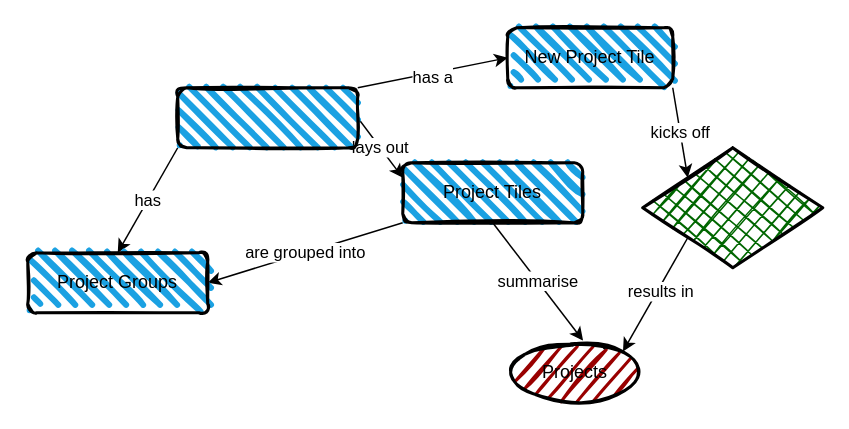
The diagram is 849 pixels wide and 429 high, and some of its shapes have lost their labels. The shapes that lost their labels are listed below. From the top down, each one's box as (x1, y1, x2, y2) in pixels, then its label:
(176, 86, 358, 148): Projects Grid
(640, 146, 824, 268): Create Project Sequence
